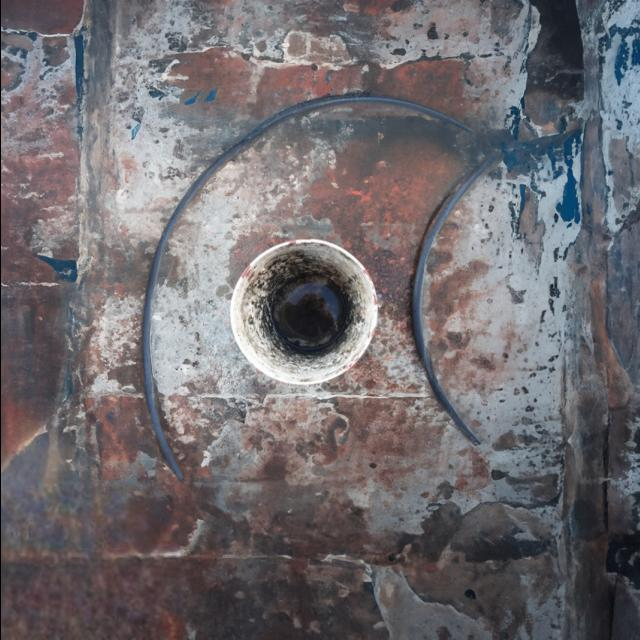Breeding Place: (200, 216, 383, 406)
